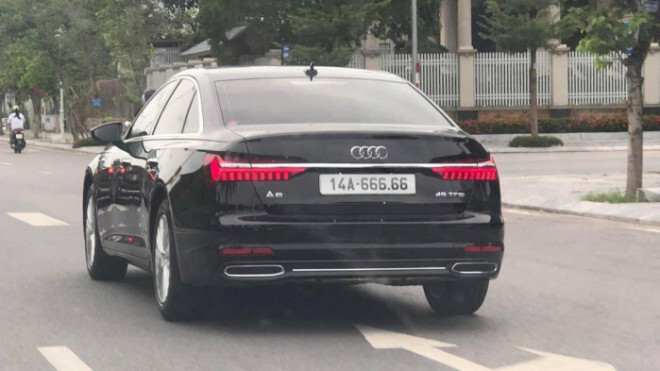number_plate: (318, 171, 414, 195)
